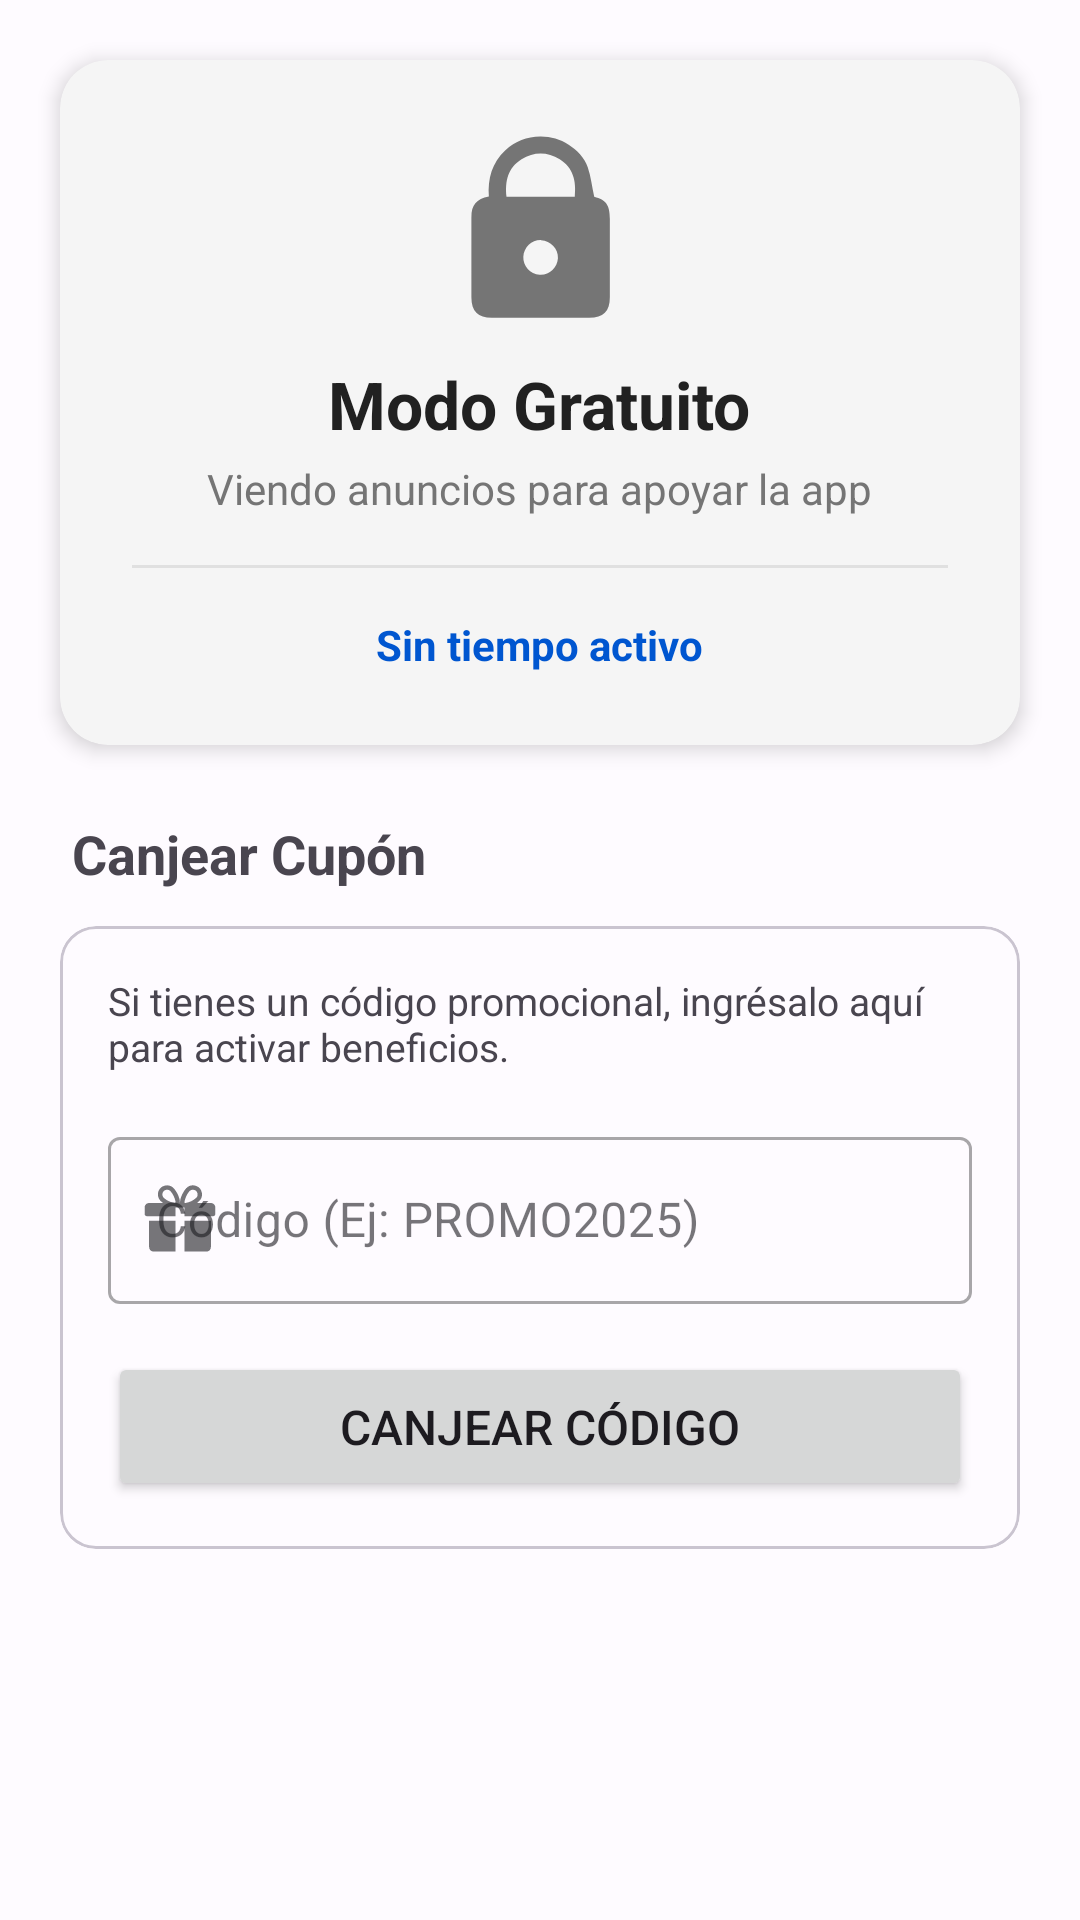

Where to tap for icons on this 1080px×1920px app screen, as [x,y]:
lock: [540,227]
